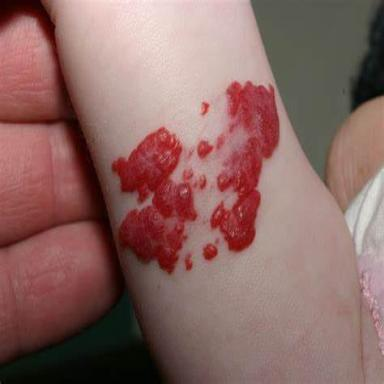Hemangiome: (112, 127, 197, 273), (211, 81, 279, 251), (197, 141, 213, 157), (203, 244, 217, 260), (185, 253, 193, 270), (201, 101, 209, 115), (199, 174, 206, 189)
